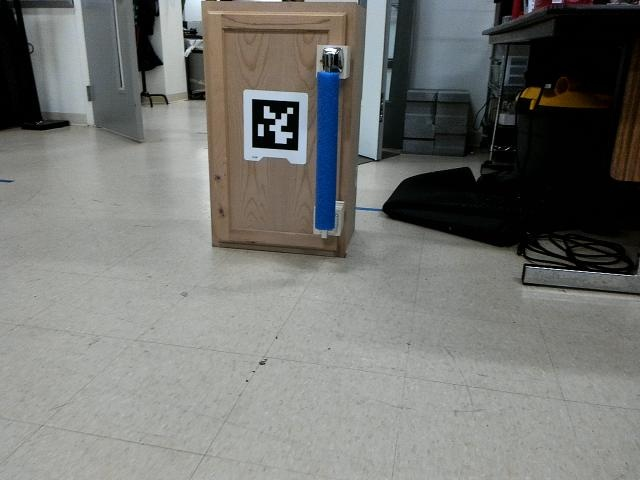noodle_handle: (309, 61, 347, 237)
